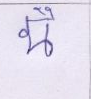ai_matra: (33, 7, 58, 17)
